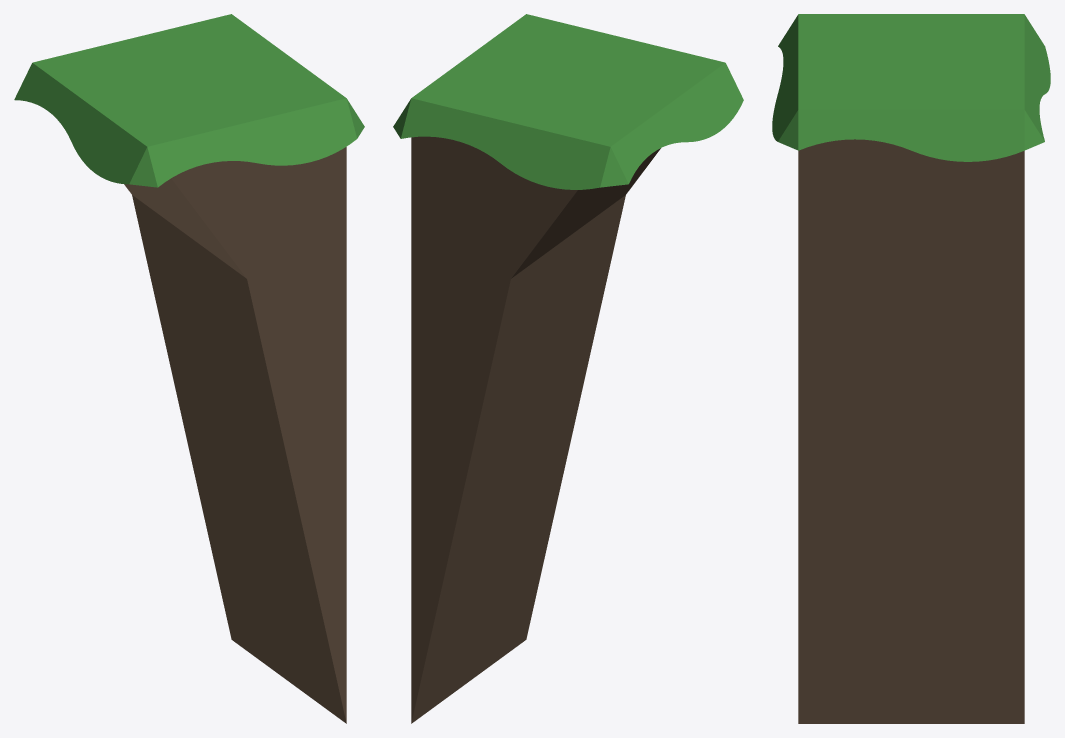
Rendered from tile_grass1_cliff.fbx.
3 views of the same model, side by side, from view 1: azimuth 30°, elevation 25°; view 2: azimuth 150°, elevation 25°; view 3: azimuth 270°, elevation 25° (orthographic).
Parts seen in each view (by area): view 1: block1cut; view 2: block1cut; view 3: block1cut.
Boxes of the visible parts, bbox=[...] form: block1cut: bbox=[14, 14, 364, 723]; block1cut: bbox=[393, 14, 743, 723]; block1cut: bbox=[772, 14, 1050, 723].
Bounding box in the file's own units: 123 × 300 × 123.
